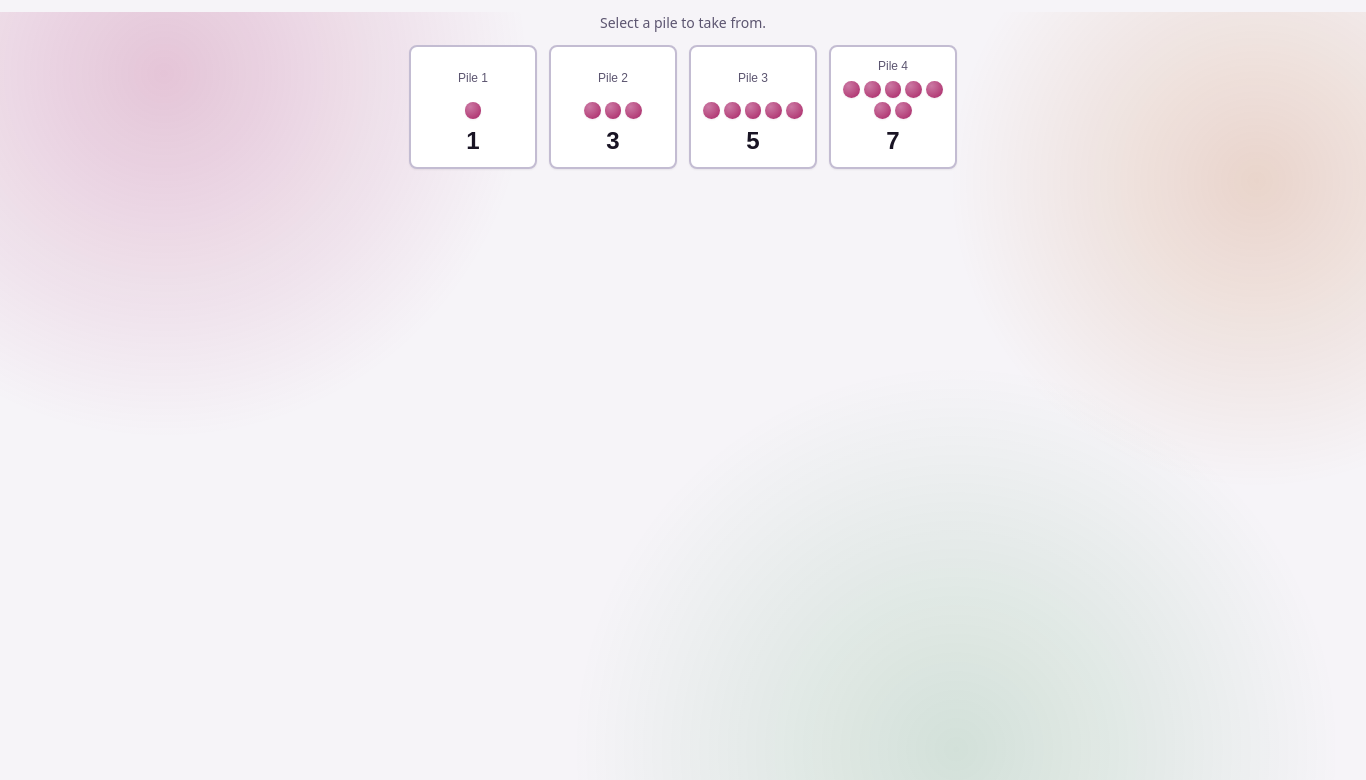
Test case: NimBoard › confirming 'Take N' issues the move and resets selection
The image size is (1366, 780).
Step 1. Click the radio button with aria-label "Pile 3, 5 objects remaining" → x=753, y=107, box top-left (689, 45), bottom-right (817, 169)
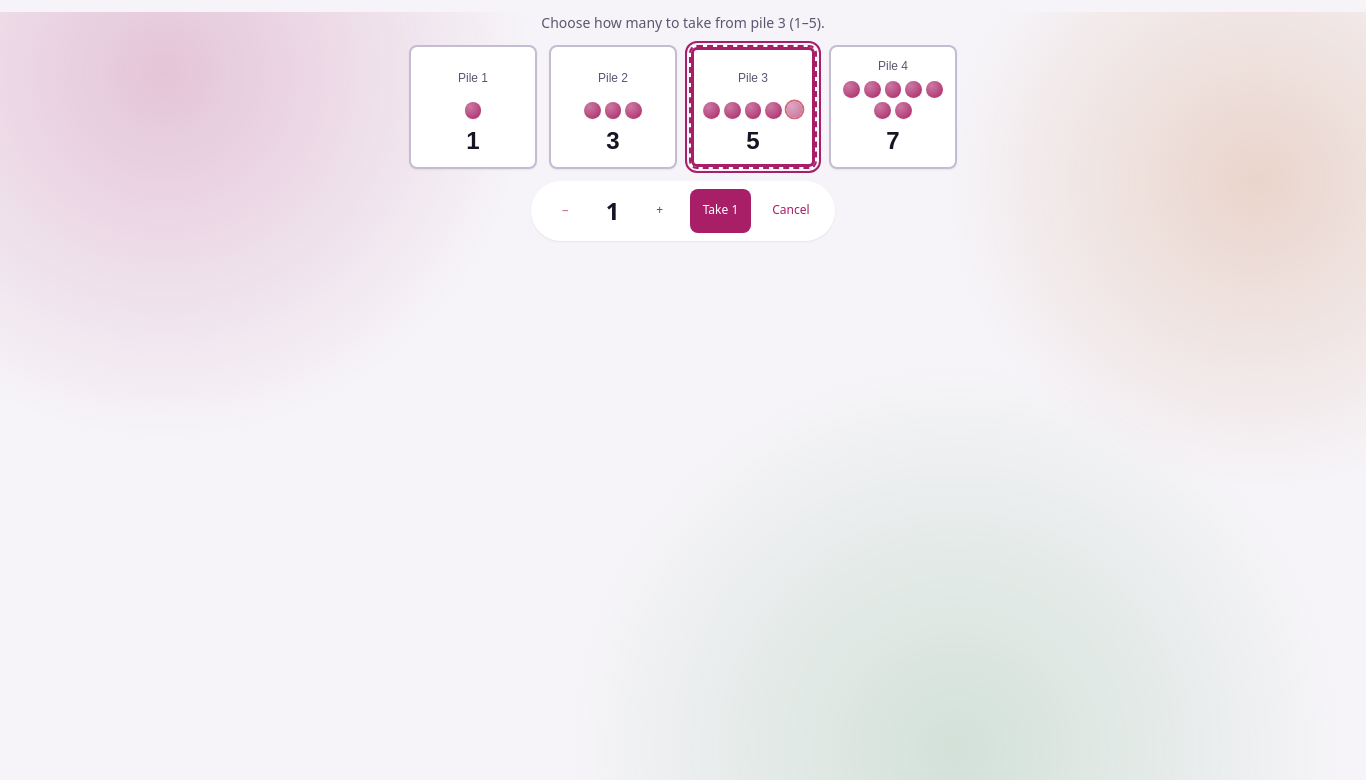
Step 2. Click the button named "Increase count" → x=660, y=211, box top-left (638, 189), bottom-right (682, 233)
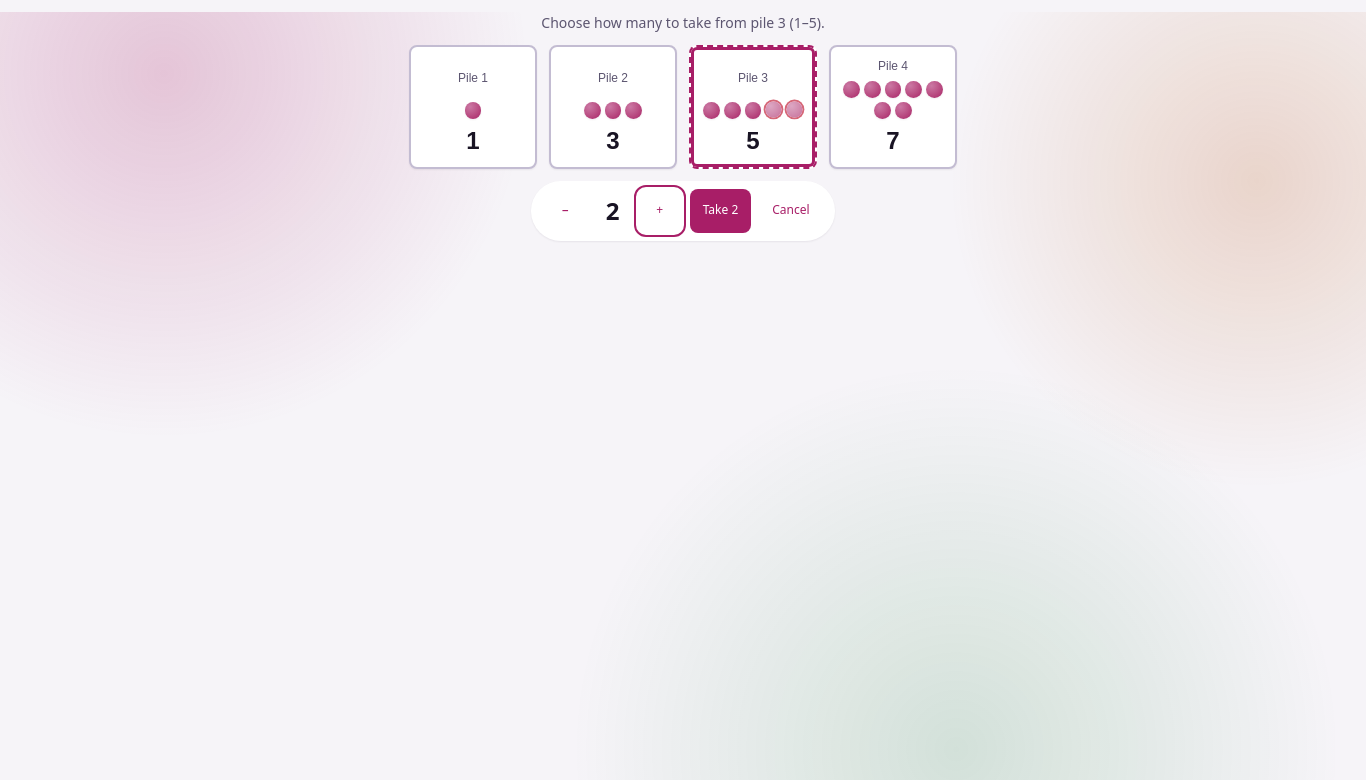
Step 3. Click the button "Take 2" → x=720, y=211, box top-left (690, 189), bottom-right (751, 233)
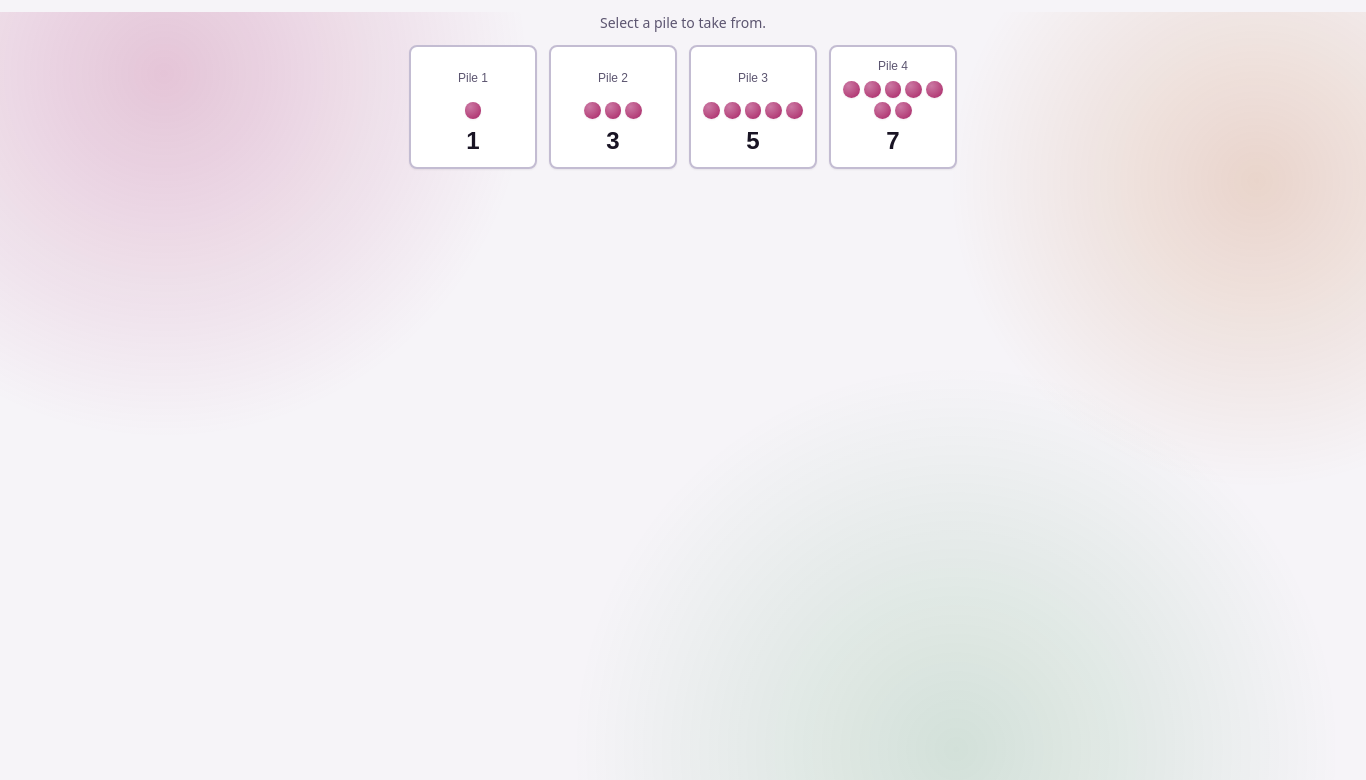
Check: the text "take from pile 3" is gone
